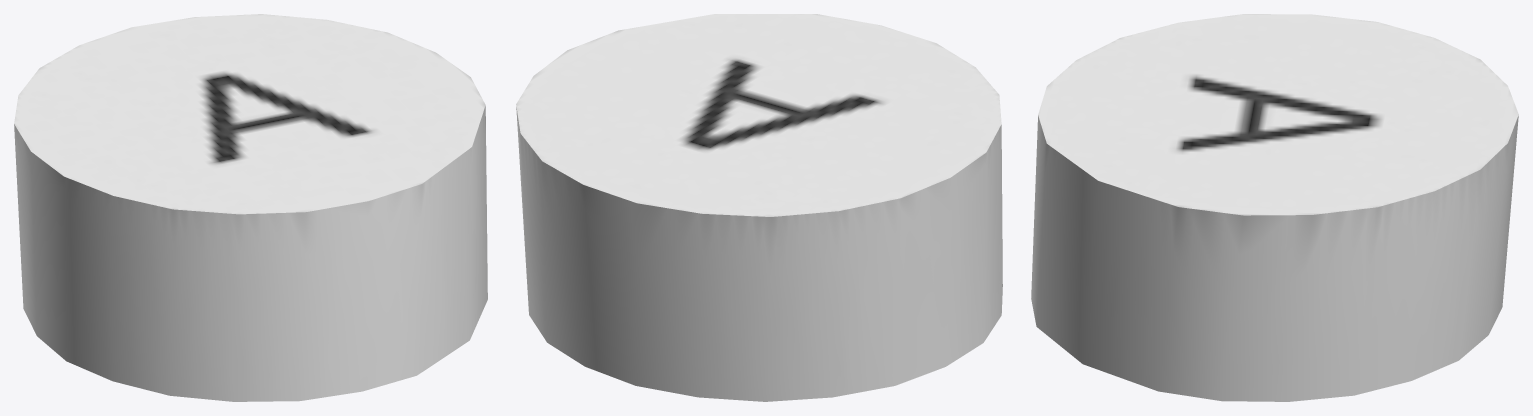
The picture shows the model from 3 angles, left to right: view 1: azimuth 30°, elevation 25°; view 2: azimuth 150°, elevation 25°; view 3: azimuth 270°, elevation 25°; orthographic projection. The views are drawn at different scales.
Bounding box in the file's own units: 0.00914 × 0.00399 × 0.00934.
1 material, 1 textured.
